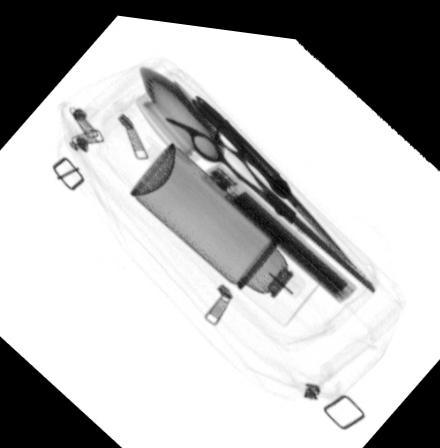Knife: (190, 87, 356, 262)
Powerbank: (200, 156, 357, 290)
Scissors: (162, 110, 374, 283)
Sprayer: (128, 137, 321, 317)
